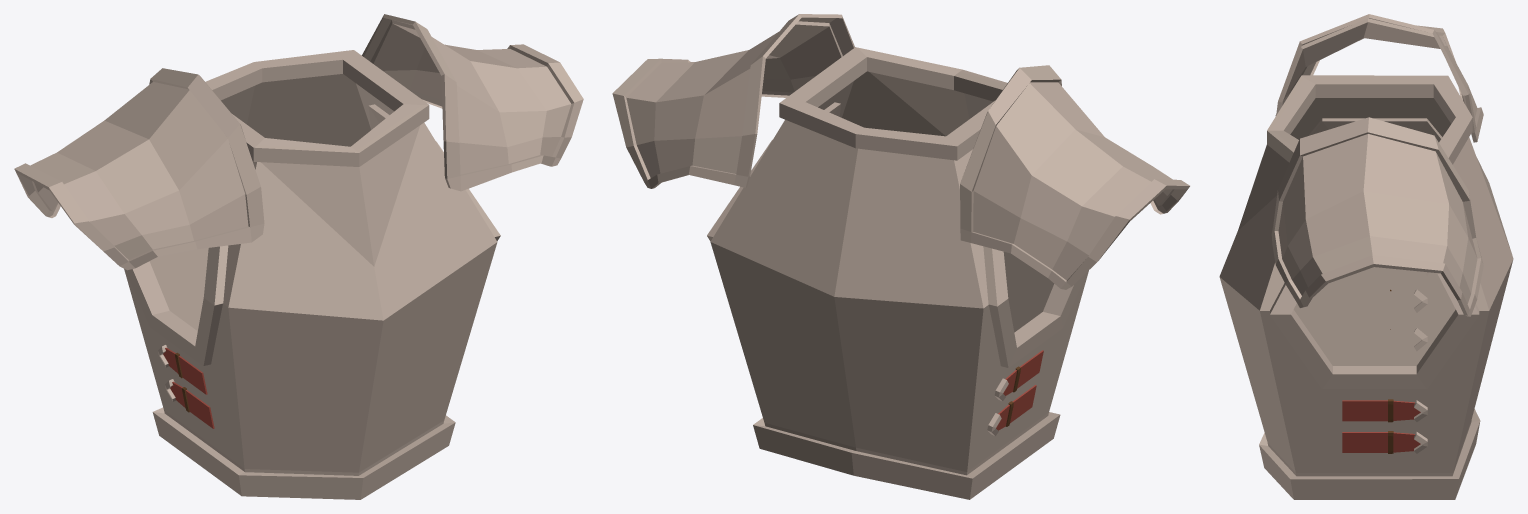
File: chest-armor.fbx
3 views of the same model, side by side, from view 1: azimuth 30°, elevation 25°; view 2: azimuth 150°, elevation 25°; view 3: azimuth 270°, elevation 25° (orthographic). The views are drawn at different scales.
Parts seen in each view (by area): view 1: Cylinder.005; view 2: Cylinder.005; view 3: Cylinder.005.
Boxes of the visible parts, x1=… form: Cylinder.005: x1=14, y1=14, x2=583, y2=499; Cylinder.005: x1=612, y1=14, x2=1189, y2=499; Cylinder.005: x1=1219, y1=14, x2=1513, y2=499.
Size of the model in its own units: 3.33 by 2.57 by 1.7.
